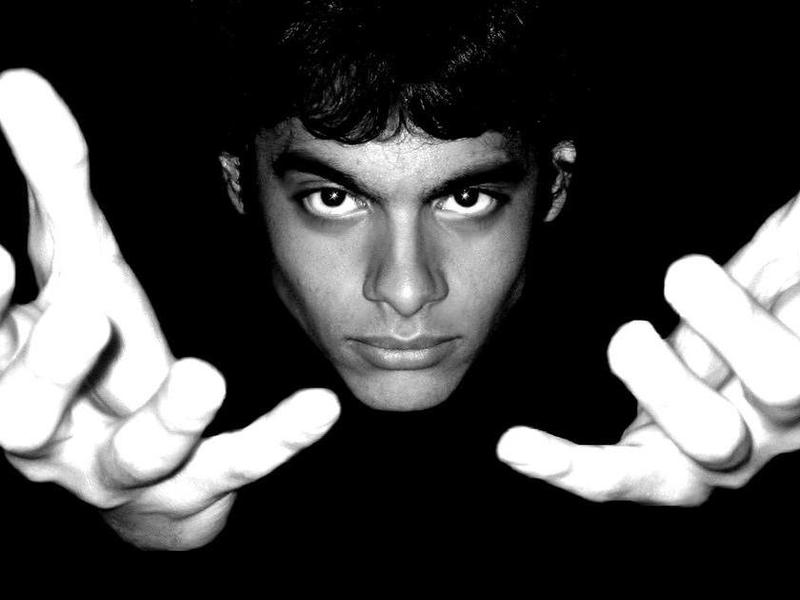person: (1, 27, 794, 544)
